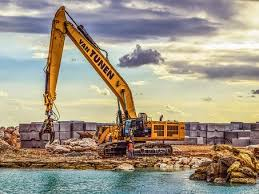excavator: (38, 5, 186, 159)
